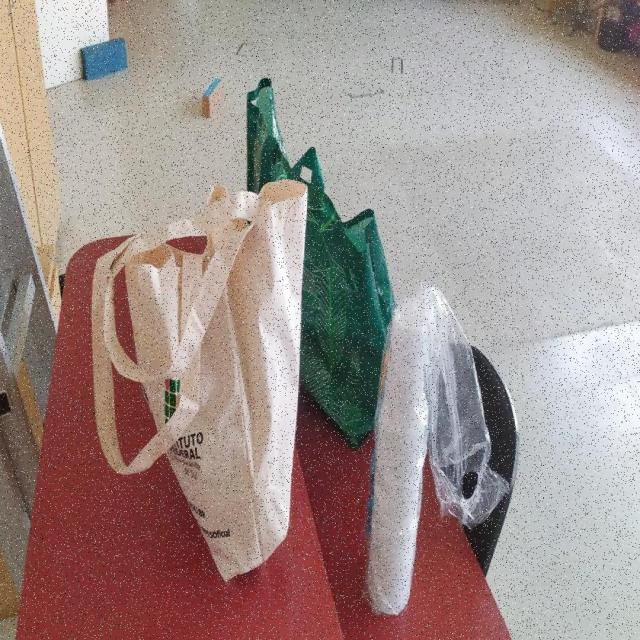Bag: (89, 180, 309, 586), (245, 74, 397, 449)
